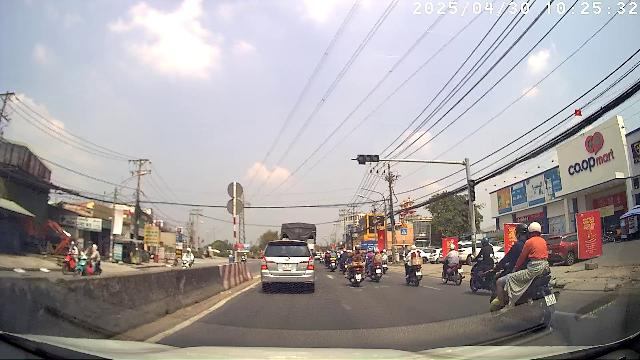423a-duong-nguoi-di-bo-sang-ngang-1: (401, 229, 407, 236)
